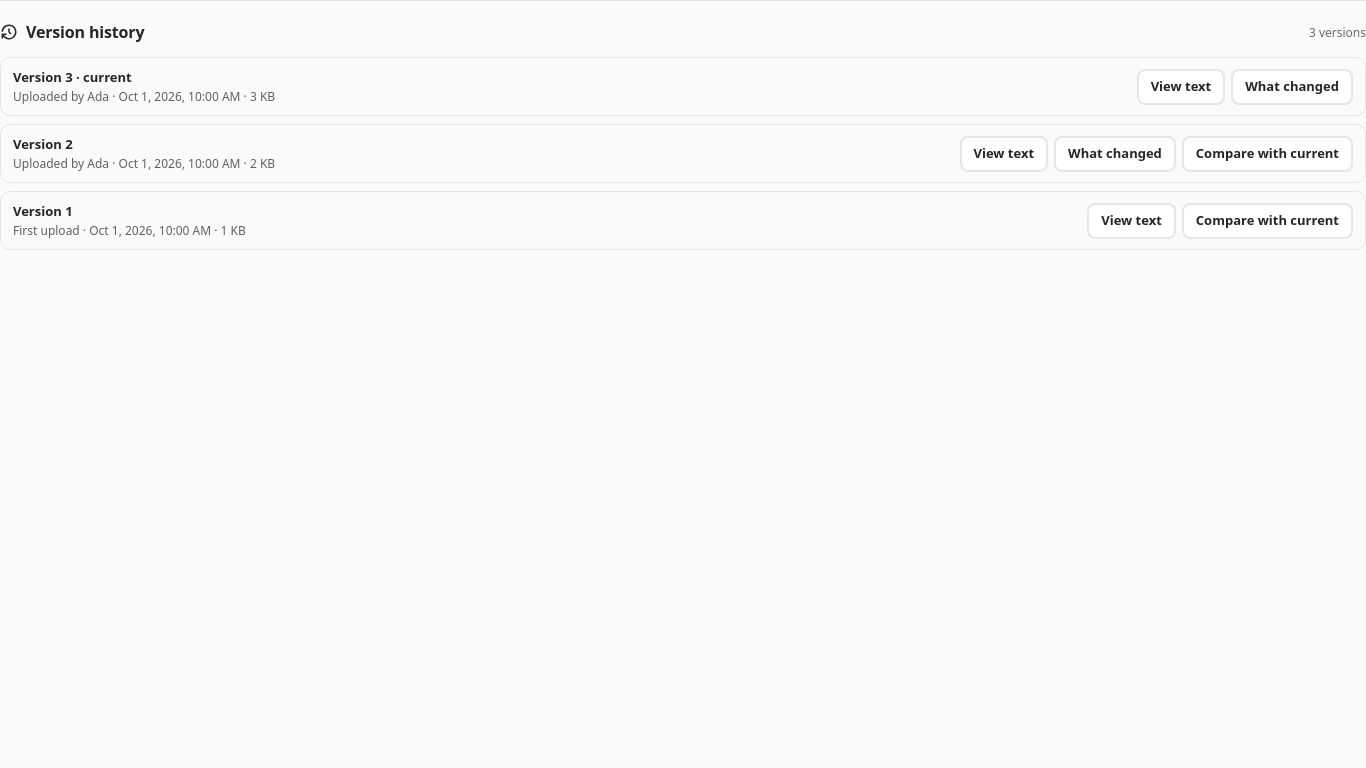
Test: ArtifactVersionsPanel › opens the text of an earlier version
Click the button "View text" in the row of "First upload ·": (1132, 220) [1087, 202, 1176, 238]
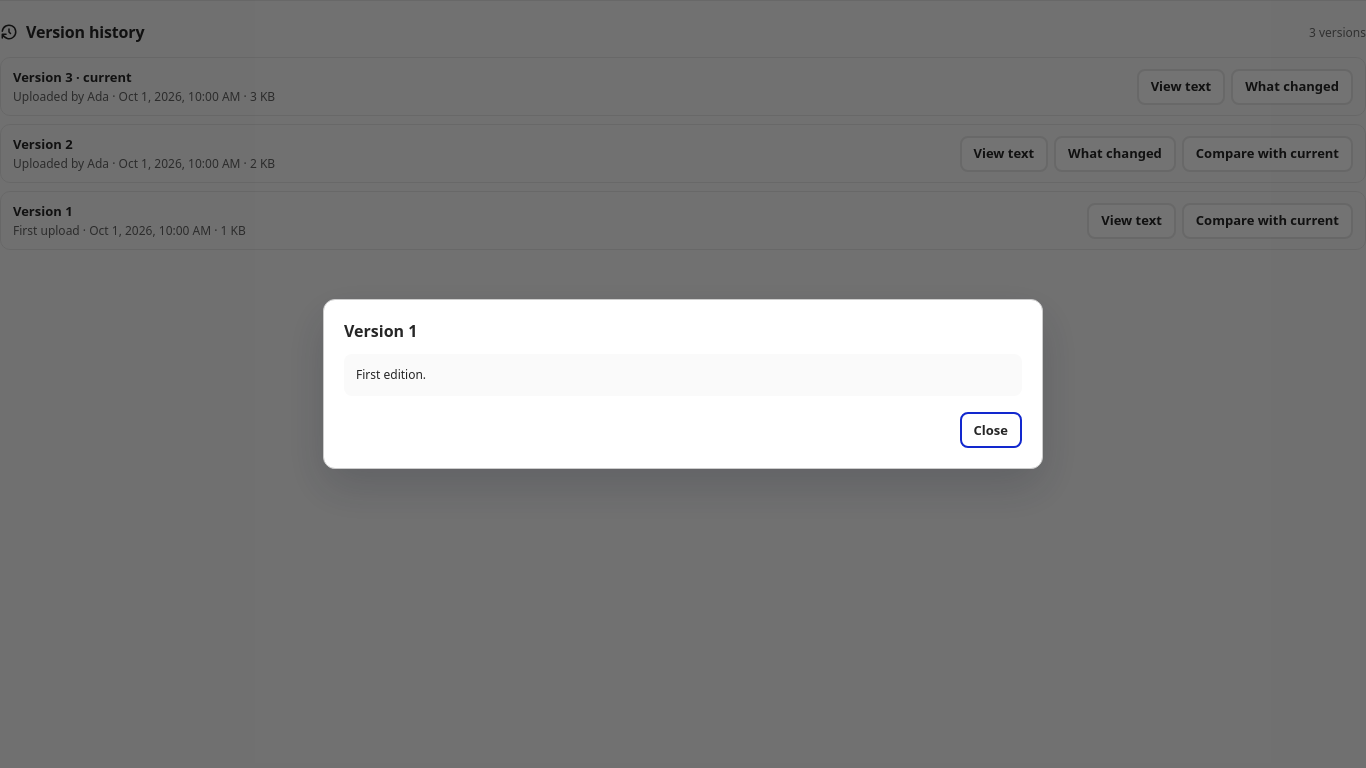
Expected: the text "First edition." is shown, [344, 354, 1022, 396]
